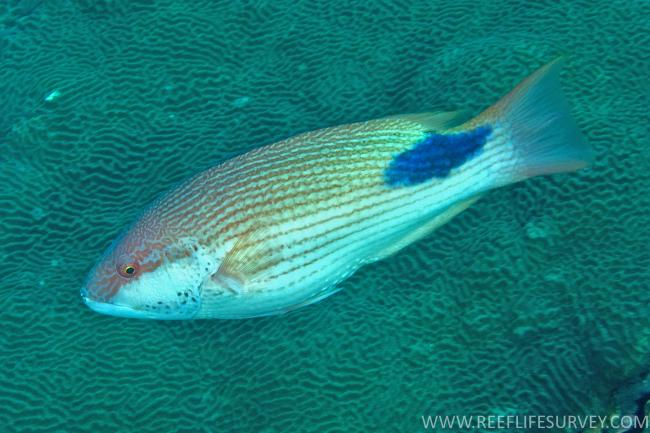fish: (80, 56, 597, 322)
